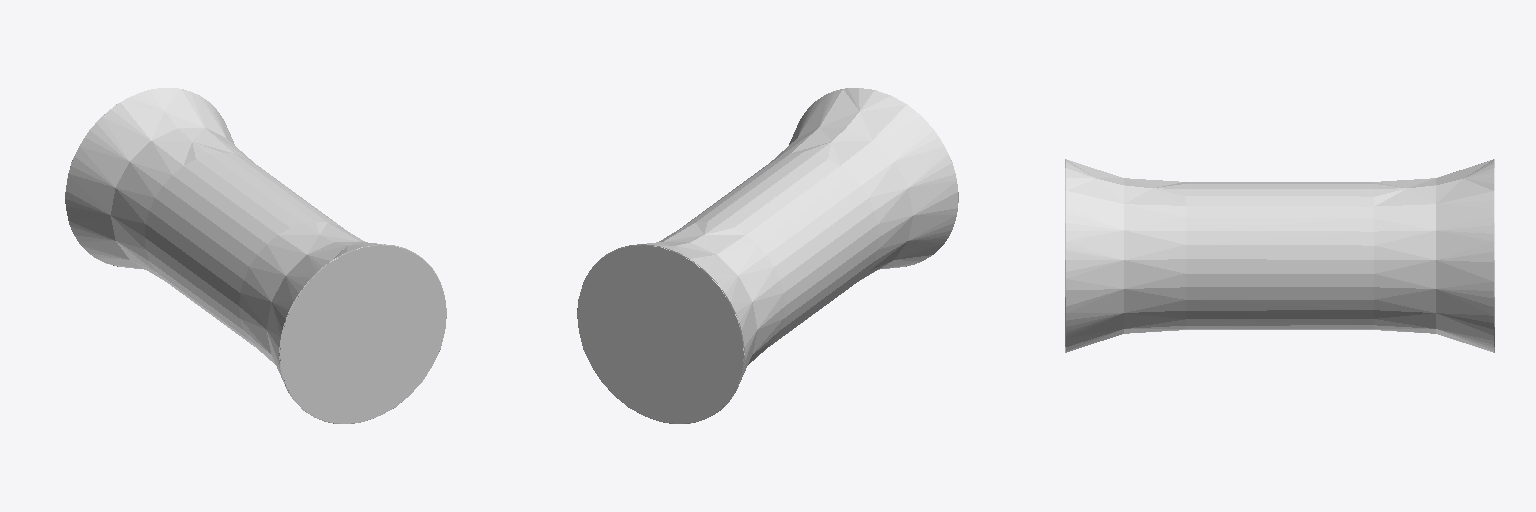
The picture shows the model from 3 angles: view 1: azimuth 30°, elevation 25°; view 2: azimuth 150°, elevation 25°; view 3: azimuth 270°, elevation 25°; orthographic projection.
Visible parts, largest first — view 1: LINK1_A0509; view 2: LINK1_A0509; view 3: LINK1_A0509.
Boxes of the visible parts, x1,y1,x2,y2 form: LINK1_A0509: [65, 88, 446, 423]; LINK1_A0509: [577, 88, 958, 423]; LINK1_A0509: [1065, 159, 1494, 352].
Bounding box in the file's own units: 0.1123 × 0.1123 × 0.2492.